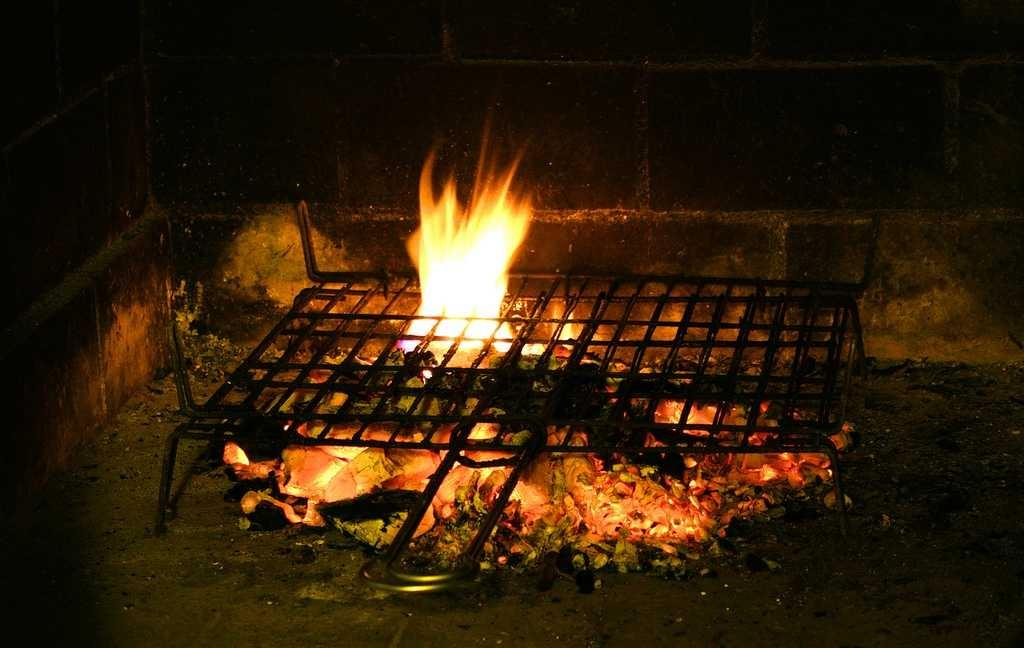fire: (408, 210, 520, 317)
